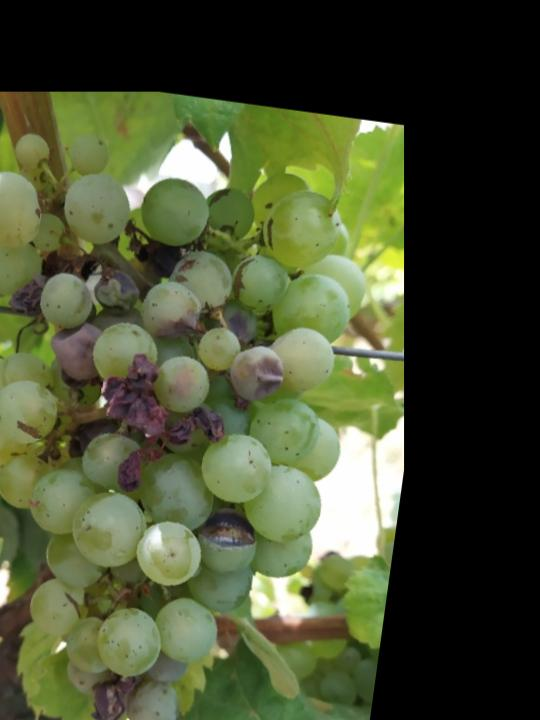grape: (0, 109, 388, 720)
